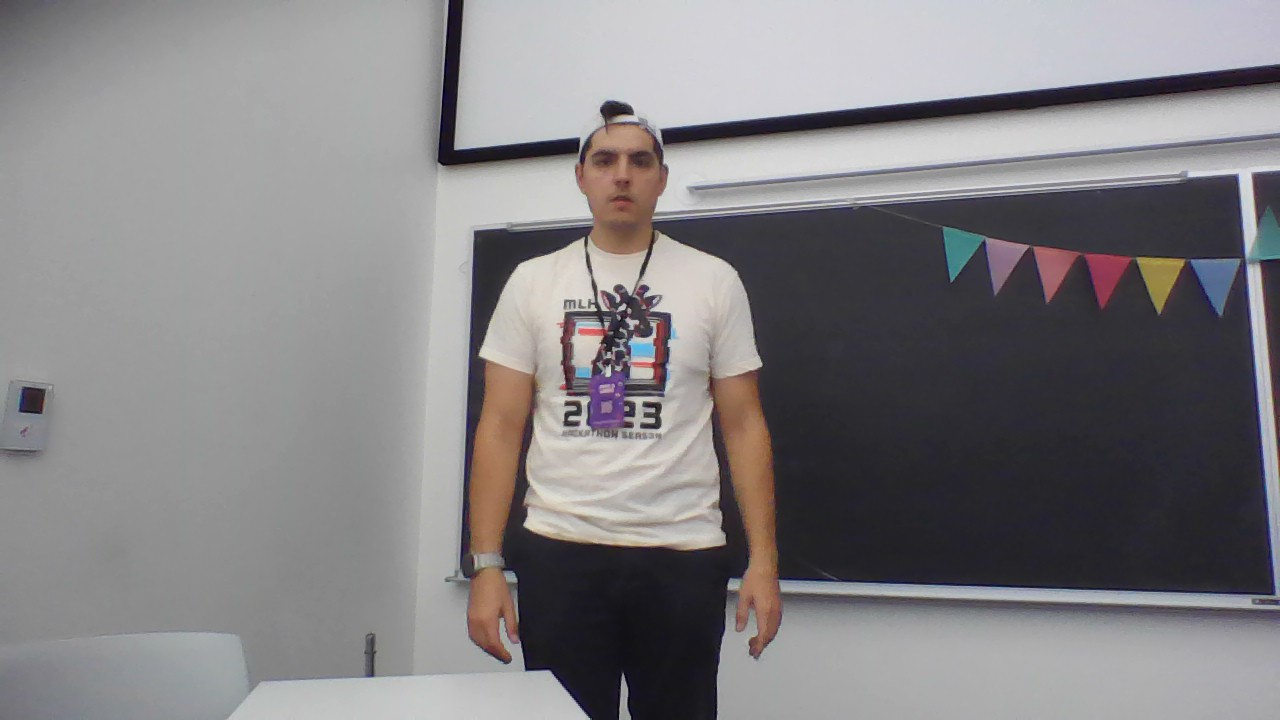height_frame: (450, 95, 798, 716)
hip_frame: (524, 516, 729, 561)
shoulder_frame: (509, 265, 741, 300)
waist_frame: (534, 413, 706, 444)
